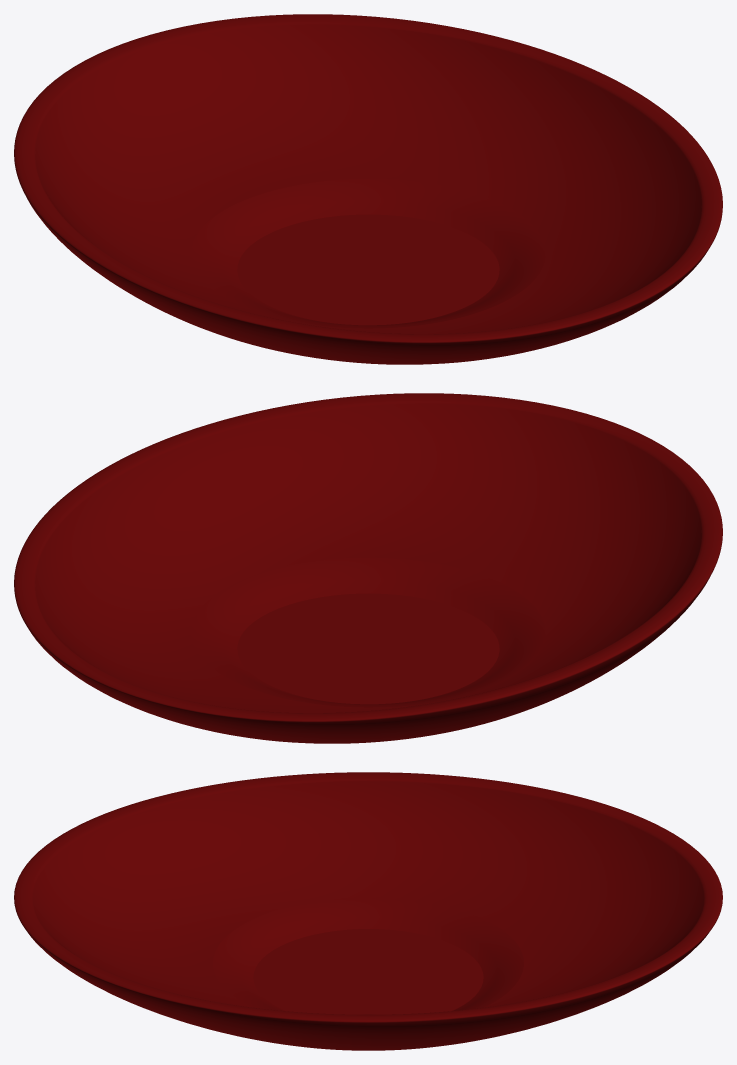
3 renders of one model, top to bottom at view 1: azimuth 30°, elevation 25°; view 2: azimuth 150°, elevation 25°; view 3: azimuth 270°, elevation 25°, orthographic. The views are drawn at different scales.
Bounding box in the file's own units: 0.095 × 0.0164 × 0.1141.
